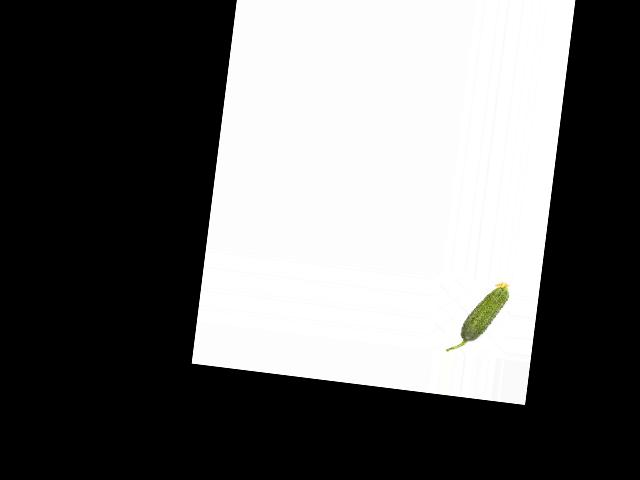cucumber: (446, 275, 511, 357)
